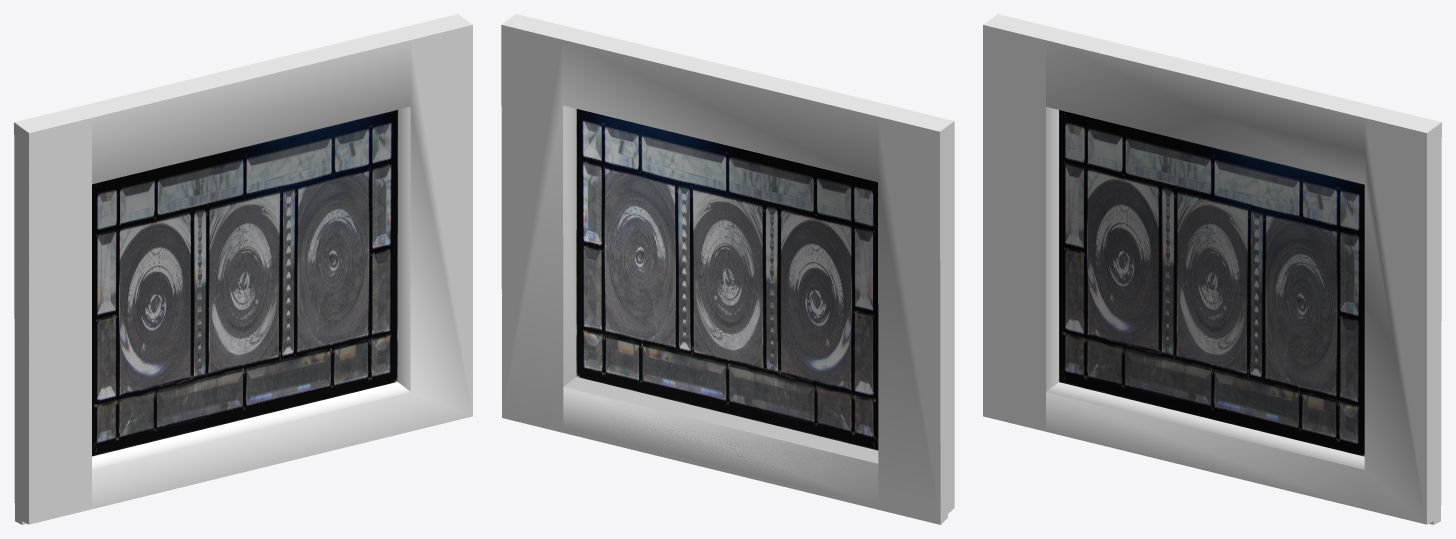
Rendered from StableDoorWhiteUPPER03.fbx.
3 renders of one model, left to right at view 1: azimuth 30°, elevation 25°; view 2: azimuth 150°, elevation 25°; view 3: azimuth 330°, elevation 25°, orthographic.
Visible parts, largest first — view 1: default; view 2: default; view 3: default.
Part boxes in pixels (x1,y1,x2,y2): default: (14, 14, 472, 524); default: (501, 14, 954, 524); default: (983, 14, 1441, 524).
Bounding box in the file's own units: 113 × 96.82 × 6.56.
